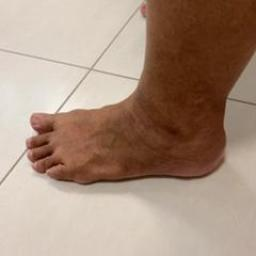Lateral View -Left Foot-: (10, 77, 248, 198)
